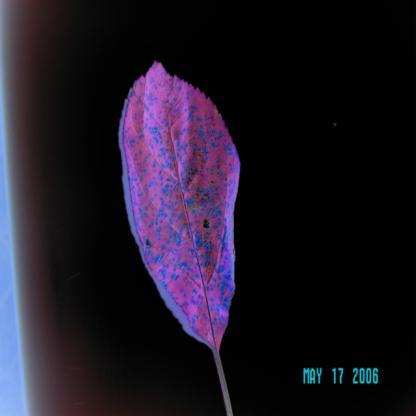Apple rust leaf: (117, 57, 257, 362)
